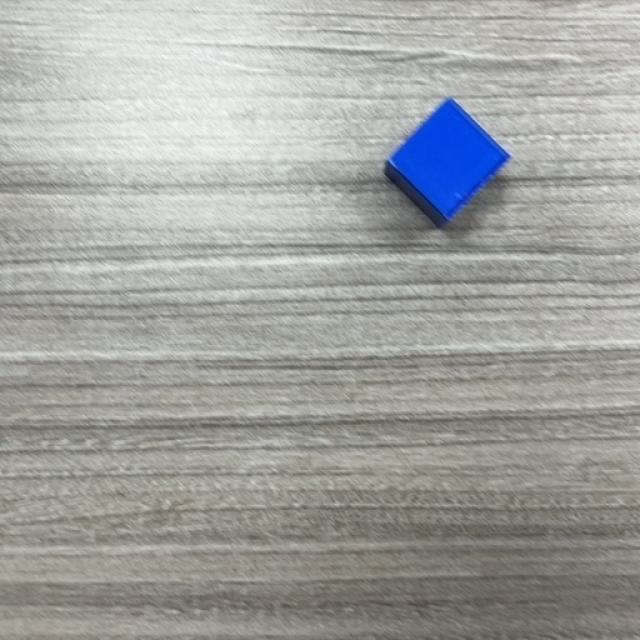Azul: (381, 99, 511, 229)
